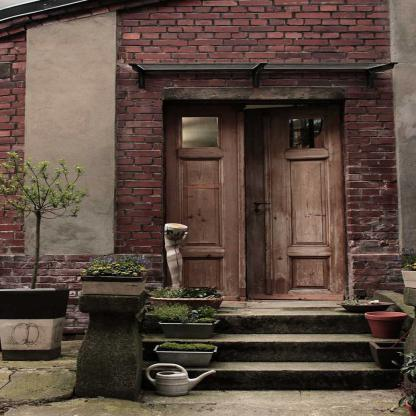door: (245, 106, 342, 302)
lever: (252, 200, 272, 206)
